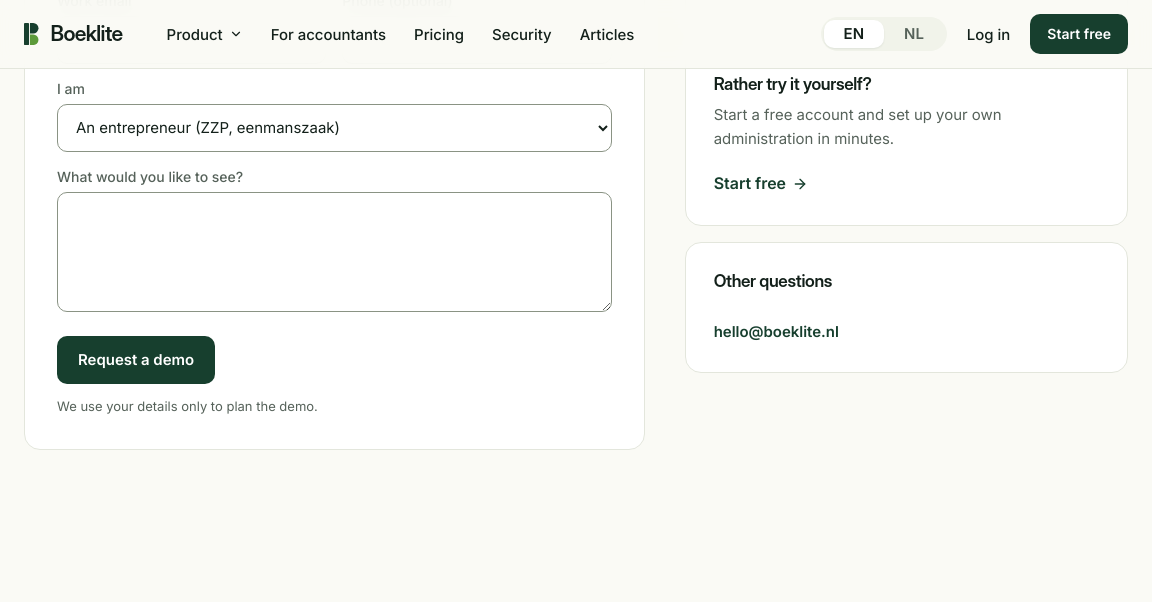
the pages › refuses an incomplete demo request and opens a filled-in email otherwise
(page scrolled)
Step 1. Click the button with test id "mk-demo-submit" → (136, 360), box top-left (57, 336), bottom-right (215, 384)
(page scrolled)
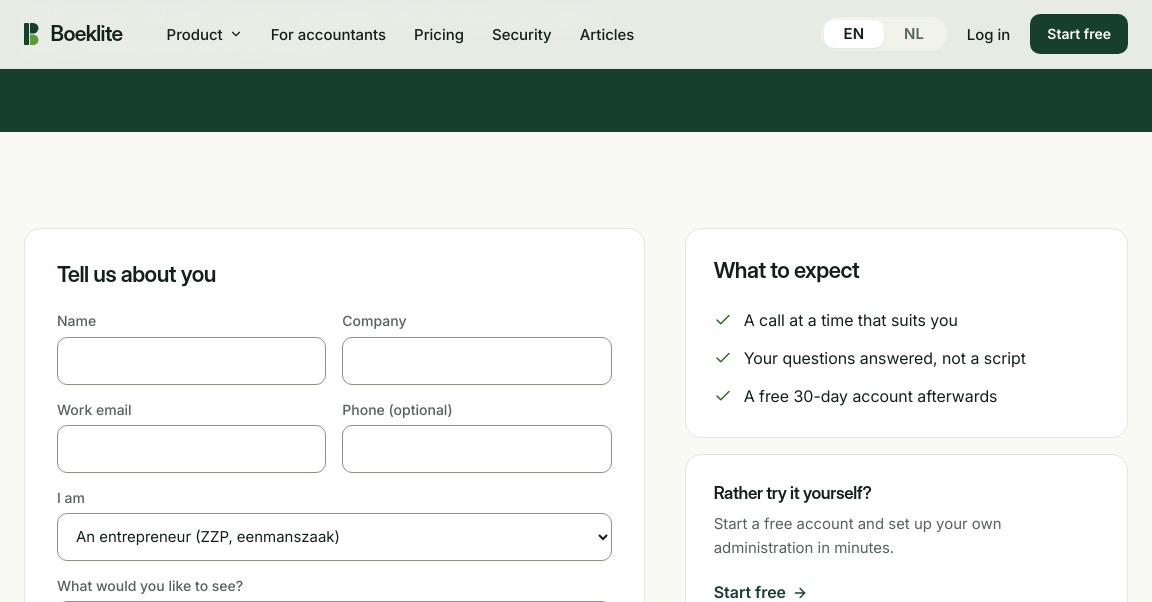
Step 2. Type "Anna" into the field with test id "mk-demo-name" → (192, 360), box top-left (57, 336), bottom-right (326, 384)
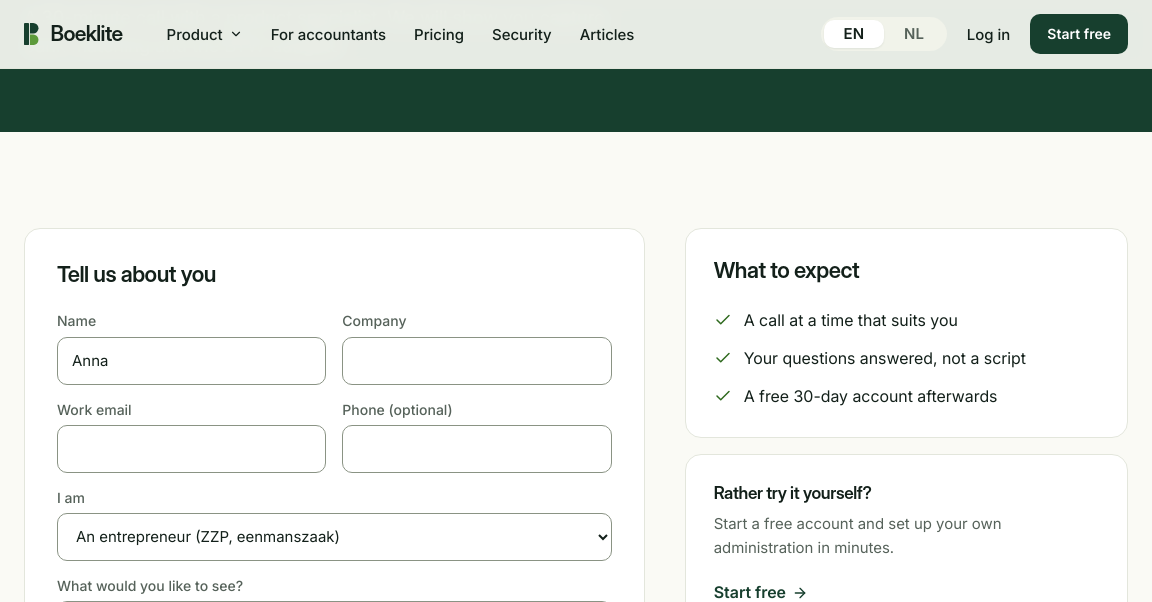
Step 3. Type "Bakkerij Vos" into the field with test id "mk-demo-company" → (477, 360), box top-left (342, 336), bottom-right (612, 384)
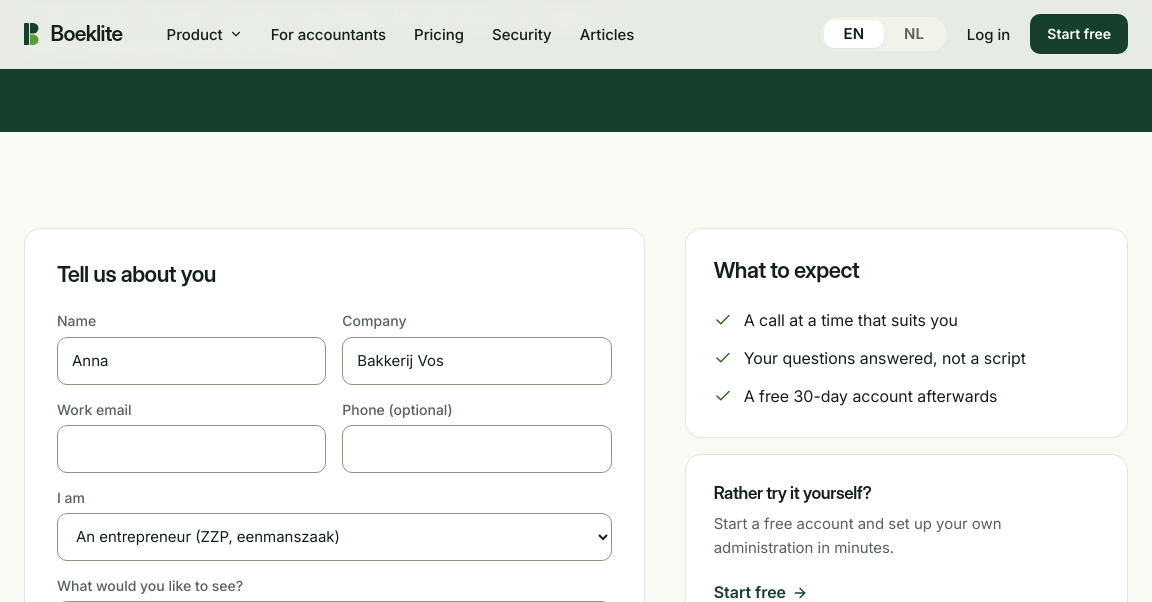
Step 4. Type "anna@vos.nl" into the field with test id "mk-demo-email" → (192, 449), box top-left (57, 425), bottom-right (326, 473)
(page scrolled)
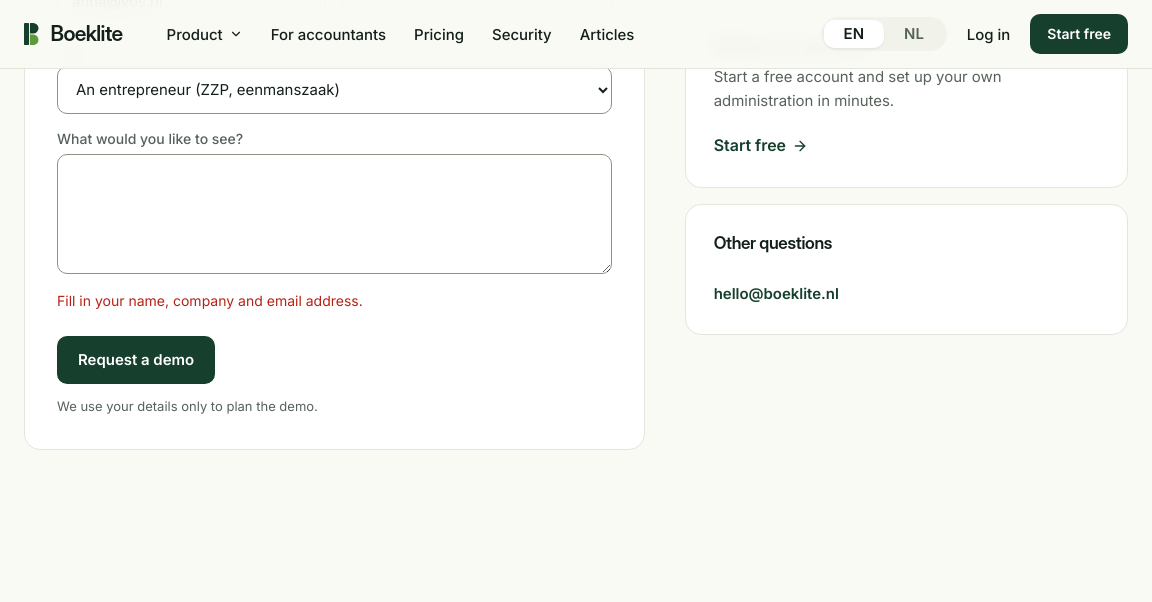
Step 5. Click the button with test id "mk-demo-submit" → (136, 360), box top-left (57, 336), bottom-right (215, 384)
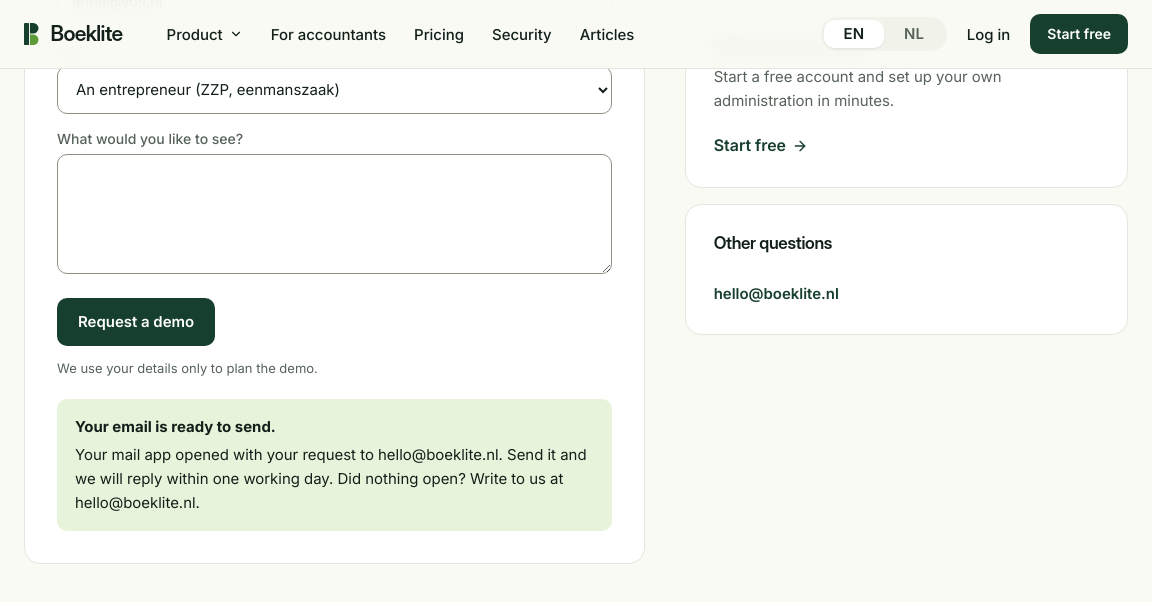
Expected: the message with test id "mk-demo-sent" is shown, top-left (57, 399), bottom-right (612, 531)
